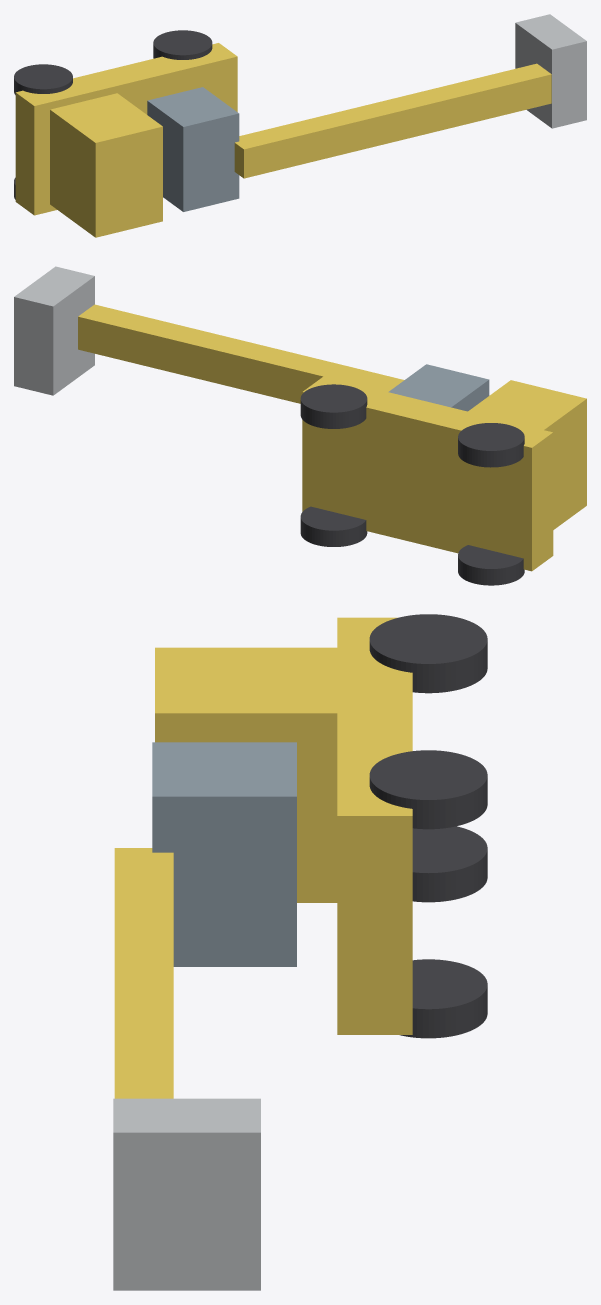
The model's file is telehandler_boom_out.glb.
3 views of the same model, one above another, from view 1: azimuth 30°, elevation 25°; view 2: azimuth 150°, elevation 25°; view 3: azimuth 270°, elevation 25° (orthographic). The views are drawn at different scales.
Parts seen in each view (by area): view 1: part_7, part_1, part_0, part_2, part_8, part_6, part_4; view 2: part_0, part_7, part_8, part_1, part_2, part_6, part_4, part_5, part_3; view 3: part_2, part_8, part_0, part_1, part_7, part_6, part_4, part_5, part_3.
Boxes of the visible parts, left/top/right/bottom form: part_7: left=234, top=63, right=551, bottom=178; part_1: left=50, top=93, right=162, bottom=237; part_0: left=15, top=43, right=237, bottom=215; part_2: left=147, top=87, right=239, bottom=211; part_8: left=515, top=14, right=586, bottom=128; part_6: left=153, top=30, right=212, bottom=59; part_4: left=14, top=64, right=72, bottom=94; part_0: left=302, top=376, right=553, bottom=571; part_7: left=78, top=304, right=404, bottom=403; part_8: left=14, top=266, right=94, bottom=395; part_1: left=468, top=380, right=586, bottom=529; part_2: left=388, top=364, right=489, bottom=411; part_6: left=300, top=384, right=367, bottom=428; part_4: left=458, top=423, right=524, bottom=467; part_5: left=300, top=506, right=367, bottom=546; part_3: left=458, top=545, right=524, bottom=585; part_2: left=152, top=742, right=296, bottom=966; part_8: left=113, top=1098, right=260, bottom=1290; part_0: left=337, top=617, right=412, bottom=1034; part_1: left=155, top=647, right=337, bottom=902; part_7: left=114, top=848, right=173, bottom=1098; part_6: left=369, top=750, right=487, bottom=829; part_4: left=369, top=614, right=487, bottom=693; part_5: left=400, top=959, right=487, bottom=1038; part_3: left=412, top=826, right=487, bottom=902.
Size of the model in its own units: 4.28 by 0.98 by 1.39.
